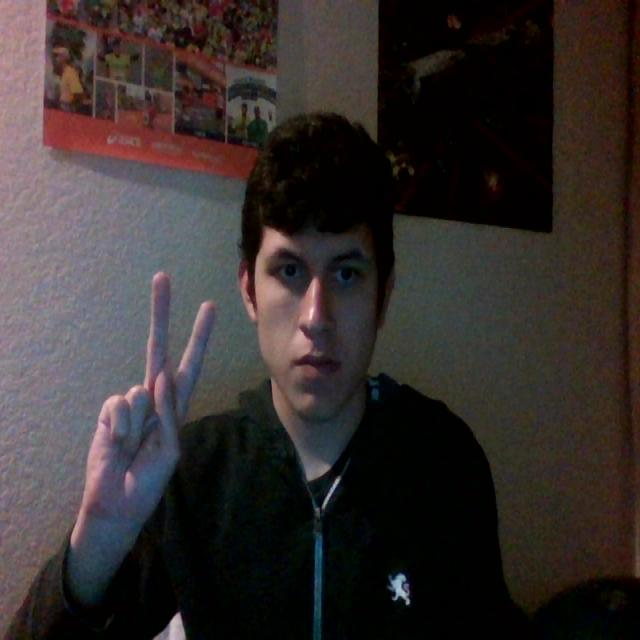K: (64, 239, 262, 558)
